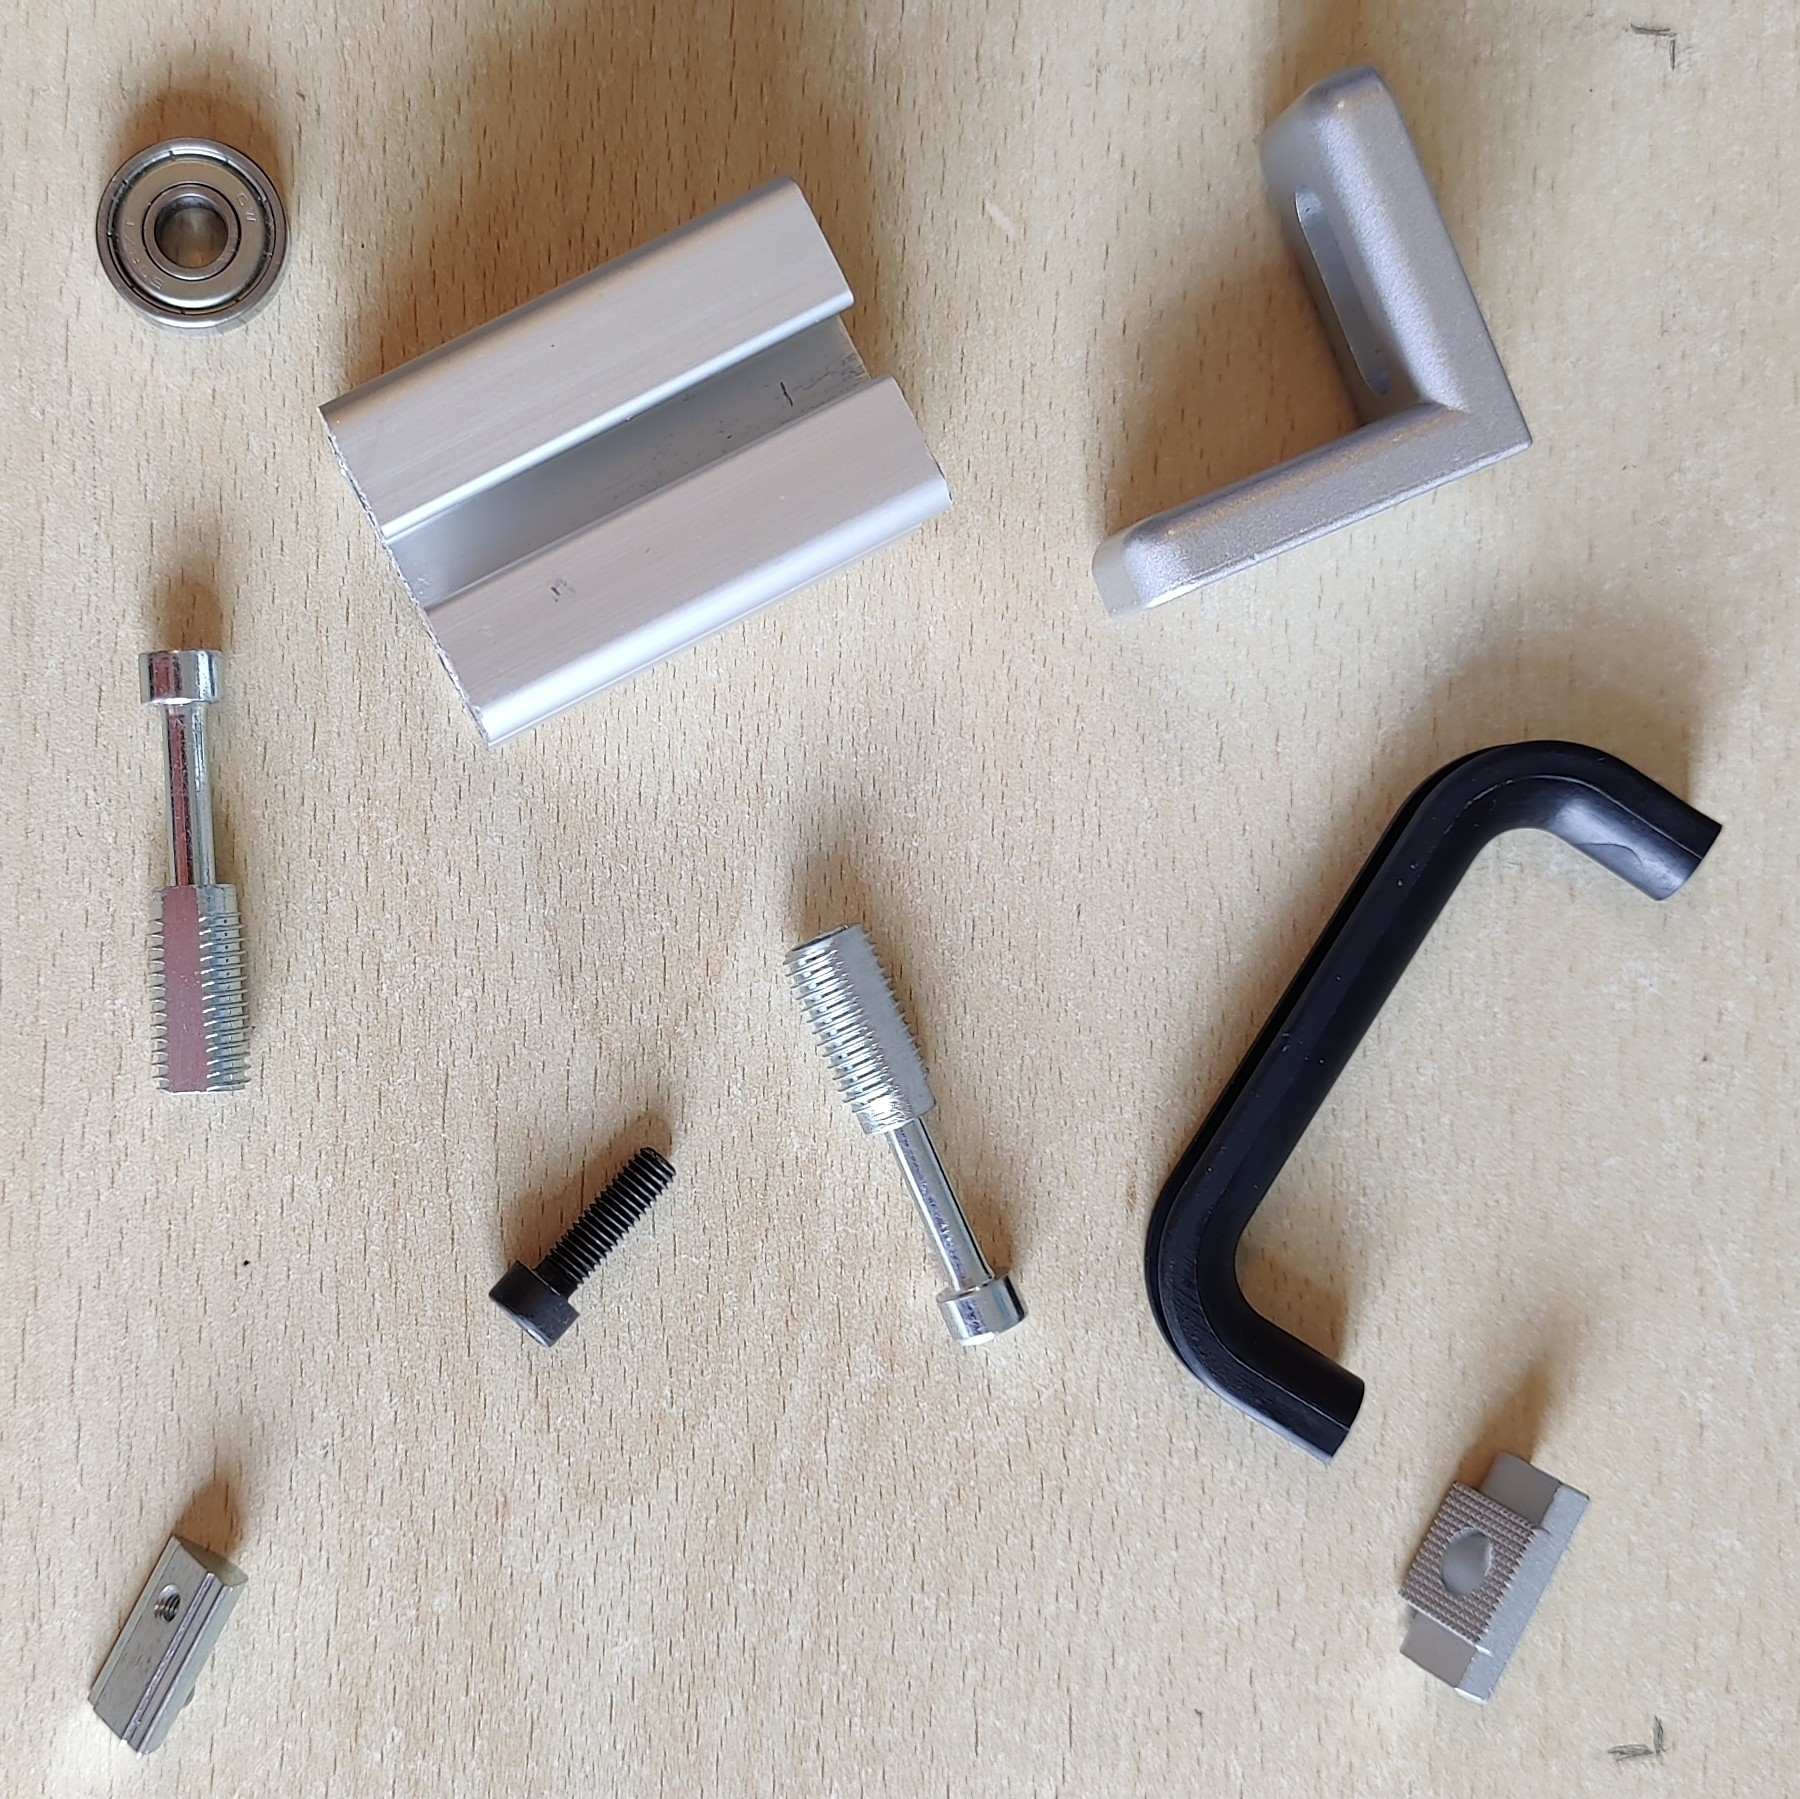Aluminium Extension: (315, 173, 954, 751)
Ball Bearing: (94, 133, 293, 338)
Multiwinkel: (1089, 61, 1535, 624)
Pull Handle: (1141, 736, 1724, 1468)
Shoulder Socket Head Cap Screw: (781, 919, 1031, 1349), (135, 644, 254, 1097)
Socket Head Cap Screw: (486, 1142, 682, 1353)
T Nut Square: (1397, 1445, 1594, 1708)
T Spring Nut: (82, 1526, 250, 1758)
